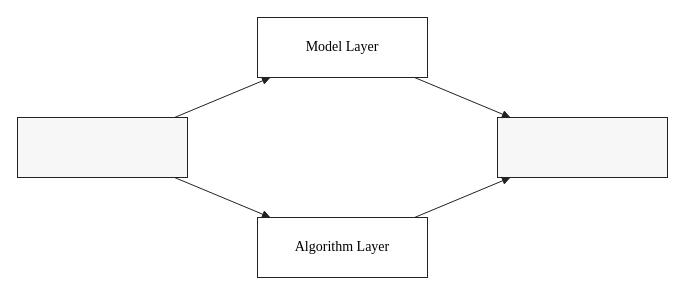
This 685x295 diagram has some shape labels left out. The box of each missing label's shape, as (x1, y1, x2, y2) in pixels:
Data Layer: (16, 116, 188, 178)
Visualization Layer: (496, 116, 668, 178)
